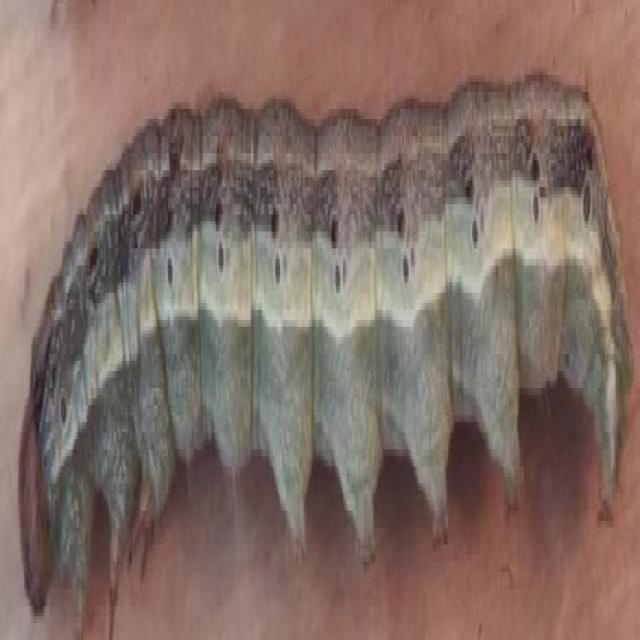Corn-earworm: (17, 67, 629, 565)
